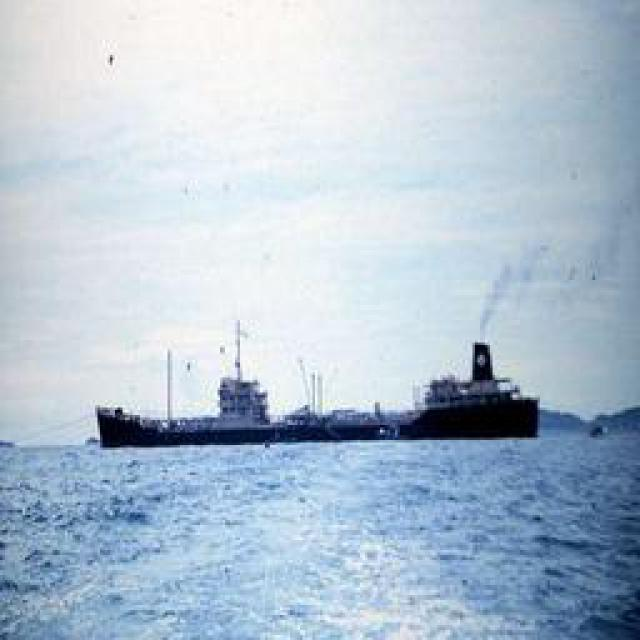Ship: (88, 327, 543, 450)
